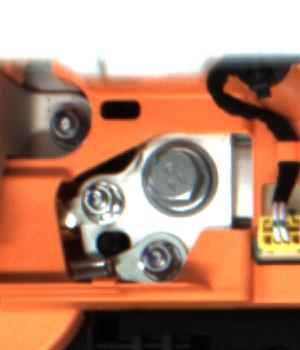nut_b: (140, 136, 221, 223)
screw_s: (135, 238, 176, 281), (50, 105, 89, 150), (81, 181, 127, 218)
